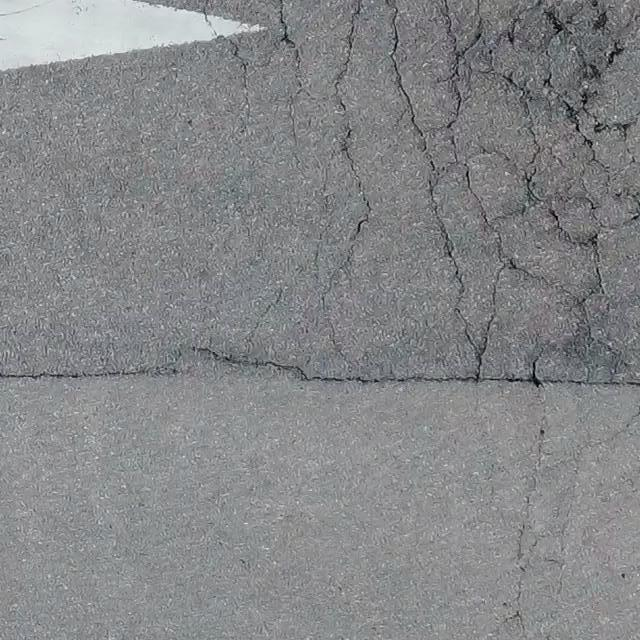GRIETA: (0, 346, 241, 379), (202, 0, 242, 59)
PIEL DE COCODRILO: (235, 0, 639, 399), (488, 401, 639, 639)
